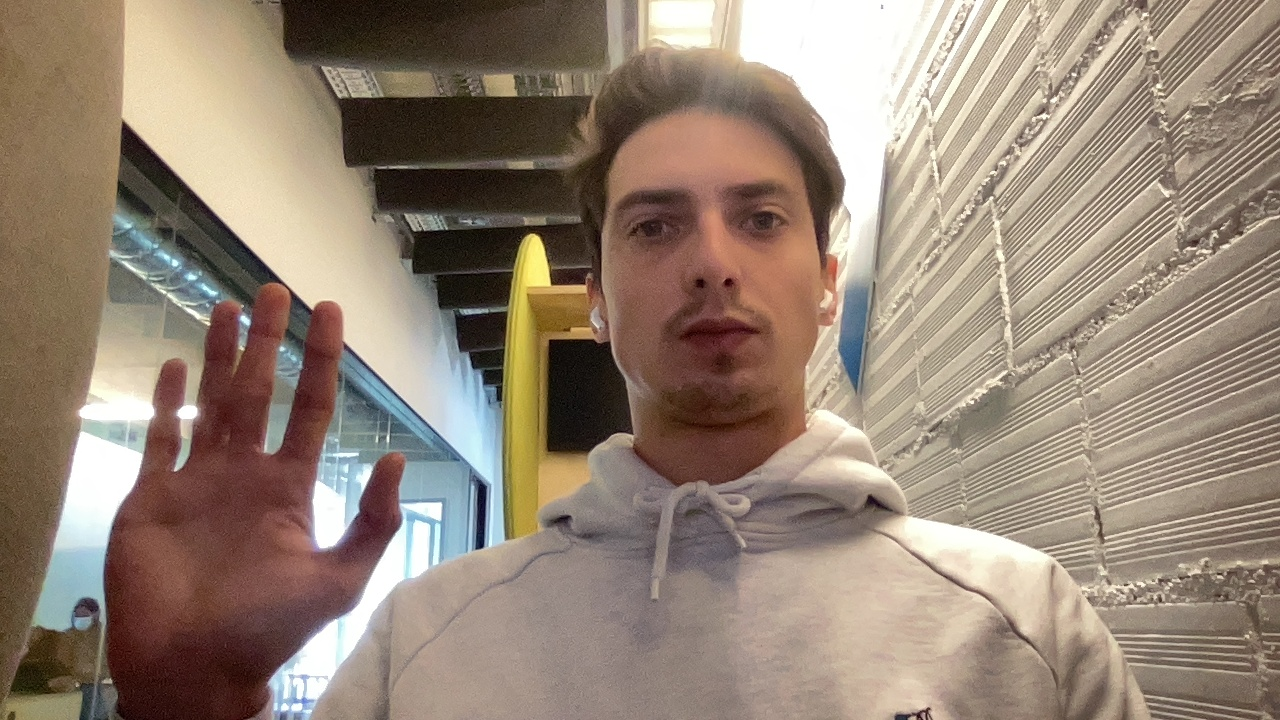Hello: (56, 252, 432, 703)
